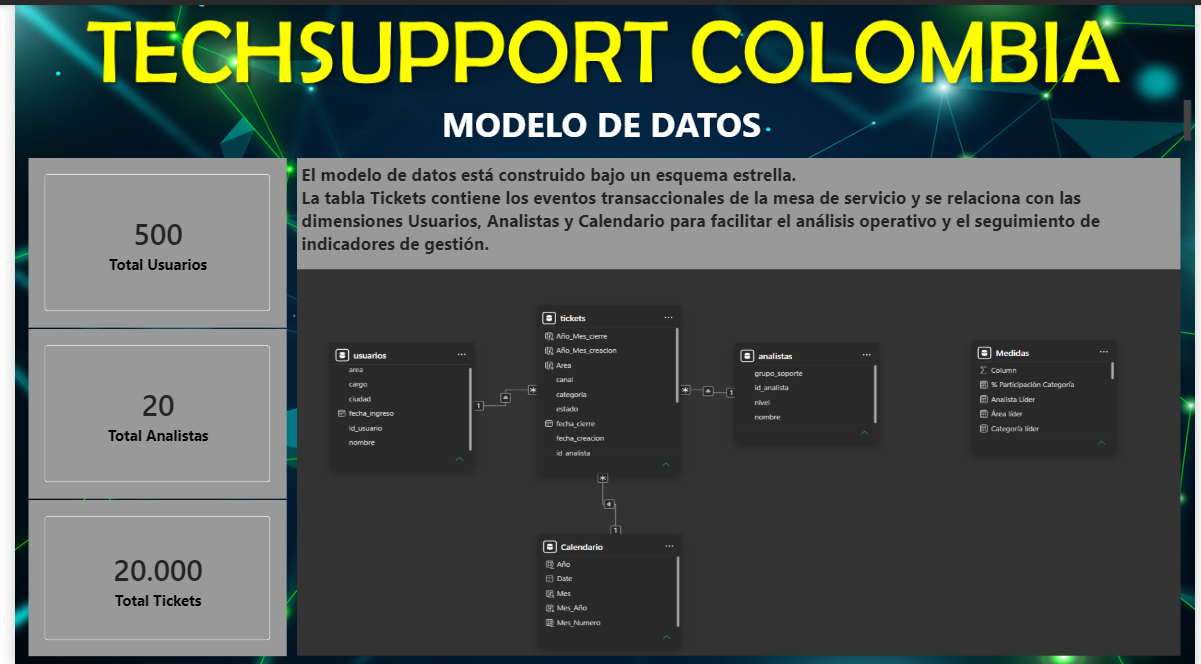

Layout of this report page (visuals, bound fields, positions):
{"tool":"powerbi","page":{"name":"Modelo de Datos","canvas":[1280,720],"ordinal":4},"visuals":[{"type":"cardVisual","fields":{"Data":["Medidas.Total Usuarios"]},"box":[14.6,165.9,279.8,183.8],"z":0},{"type":"cardVisual","fields":{"Data":["Medidas.Total Analistas"]},"box":[14.6,351.3,279.8,183.8],"z":1000},{"type":"cardVisual","fields":{"Data":["Medidas.Total Tickets"]},"box":[14.6,536.8,279.8,169.2],"z":2000},{"type":"image","box":[305.8,286.3,958,419.6],"z":6000},{"type":"textbox","box":[305.8,165.9,958,120.4],"z":6001},{"type":"textbox","box":[0,97.6,1280.1,56.9],"z":6002}]}

Visuals, with their boxes in screenshot pixels (x1, y1, x2, y2), scaled from the page's 1280x720 canvas onto the 1201x664 screenshot:
cardVisual - Medidas.Total Usuarios: <box>14,153,276,323</box>
cardVisual - Medidas.Total Analistas: <box>14,324,276,493</box>
cardVisual - Medidas.Total Tickets: <box>14,495,276,651</box>
image: <box>287,264,1186,651</box>
textbox: <box>287,153,1186,264</box>
textbox: <box>0,90,1200,142</box>
